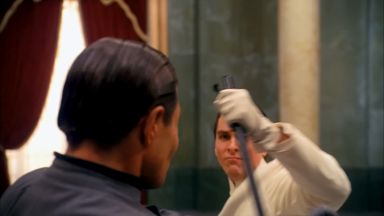bladed_weapon: (217, 75, 268, 213)
